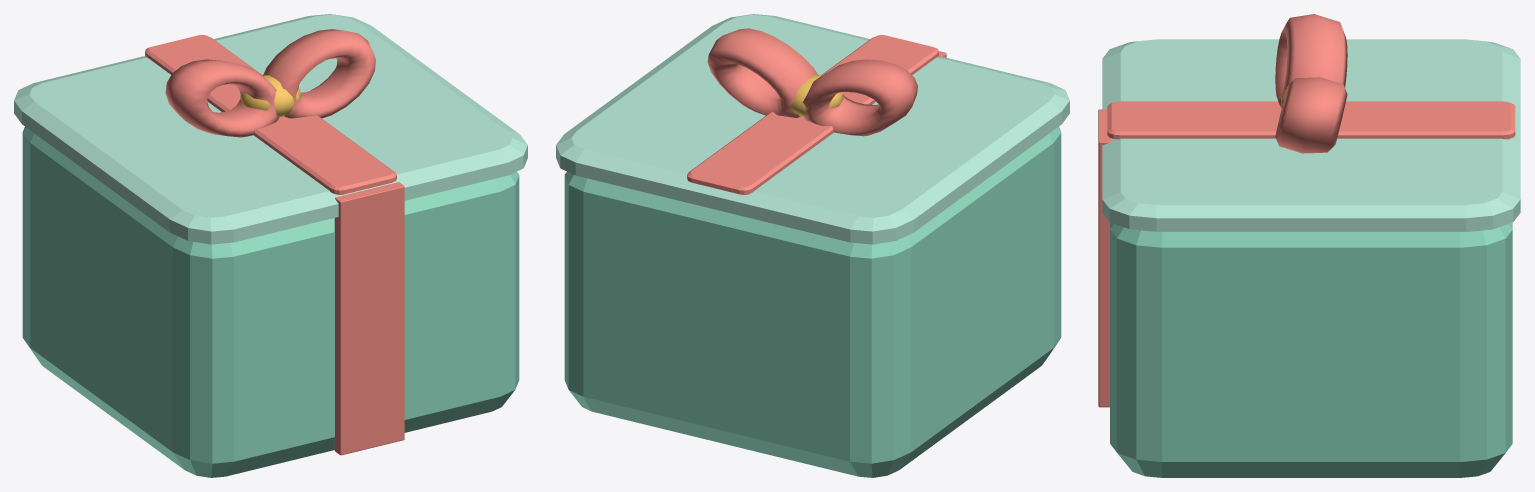
Rendered from wedding_gift.glb.
3 renders of one model, left to right at view 1: azimuth 30°, elevation 25°; view 2: azimuth 150°, elevation 25°; view 3: azimuth 270°, elevation 25°, orthographic. The views are drawn at different scales.
Visible parts, largest first — view 1: carton, lid, model, ribbon; view 2: carton, lid, model, ribbon; view 3: carton, lid, ribbon, model.
Boxes of the visible parts, x1,y1,x2,y2 form: carton: (22, 126, 519, 477); lid: (14, 14, 527, 244); model: (165, 29, 404, 455); ribbon: (145, 34, 396, 194); carton: (564, 126, 1061, 477); lid: (556, 14, 1069, 244); model: (707, 28, 946, 136); ribbon: (687, 34, 938, 194); carton: (1110, 222, 1512, 477); lid: (1102, 39, 1520, 231); ribbon: (1107, 101, 1515, 139); model: (1098, 14, 1347, 407).
Bounding box in the file's own units: 0.5 × 0.45 × 0.5.
